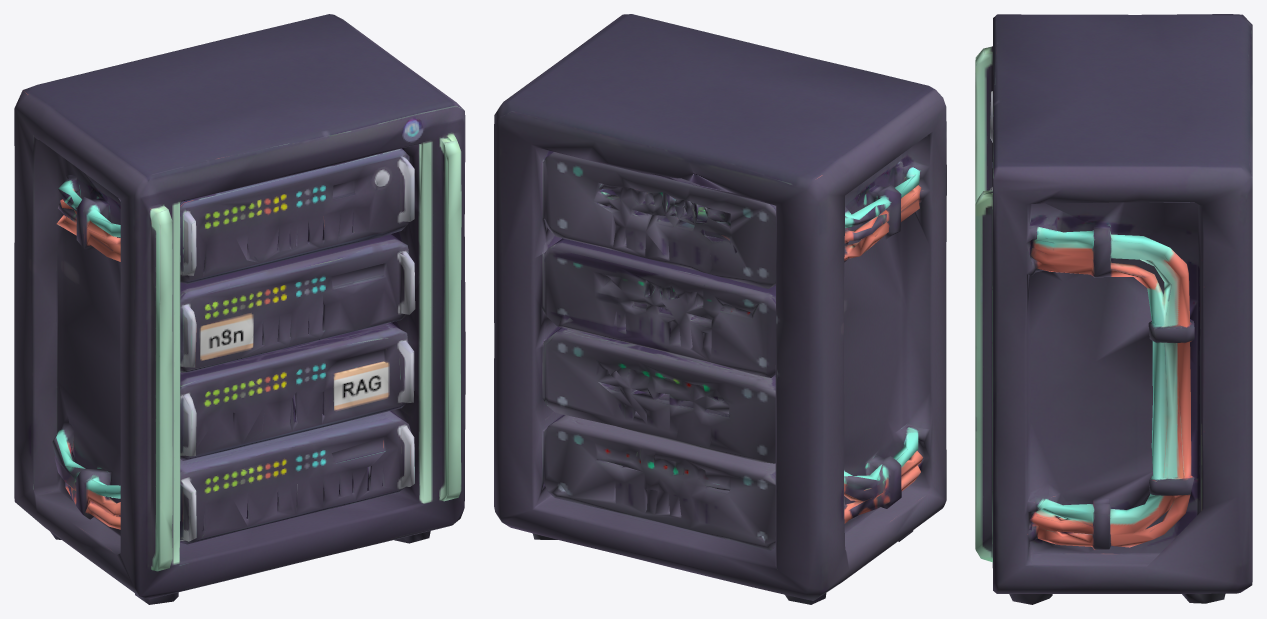
Rendered from server_rack.glb.
3 renders of one model, left to right at view 1: azimuth 30°, elevation 25°; view 2: azimuth 150°, elevation 25°; view 3: azimuth 270°, elevation 25°, orthographic.
Parts seen in each view (by area): view 1: Mesh_0; view 2: Mesh_0; view 3: Mesh_0.
Boxes of the visible parts, x1=… form: Mesh_0: x1=14, y1=14, x2=465, y2=604; Mesh_0: x1=494, y1=14, x2=946, y2=604; Mesh_0: x1=975, y1=14, x2=1252, y2=604.
Bounding box in the file's own units: 1.54 × 1.91 × 1.08.
Materials: 1 (1 with a texture image).
